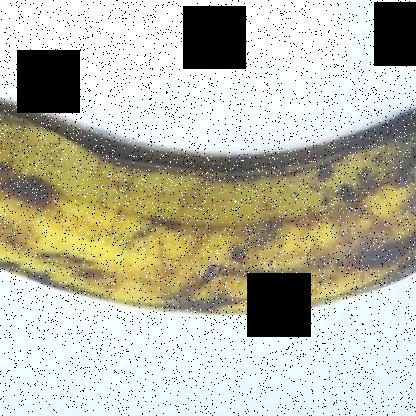overripe: (0, 68, 415, 354)
